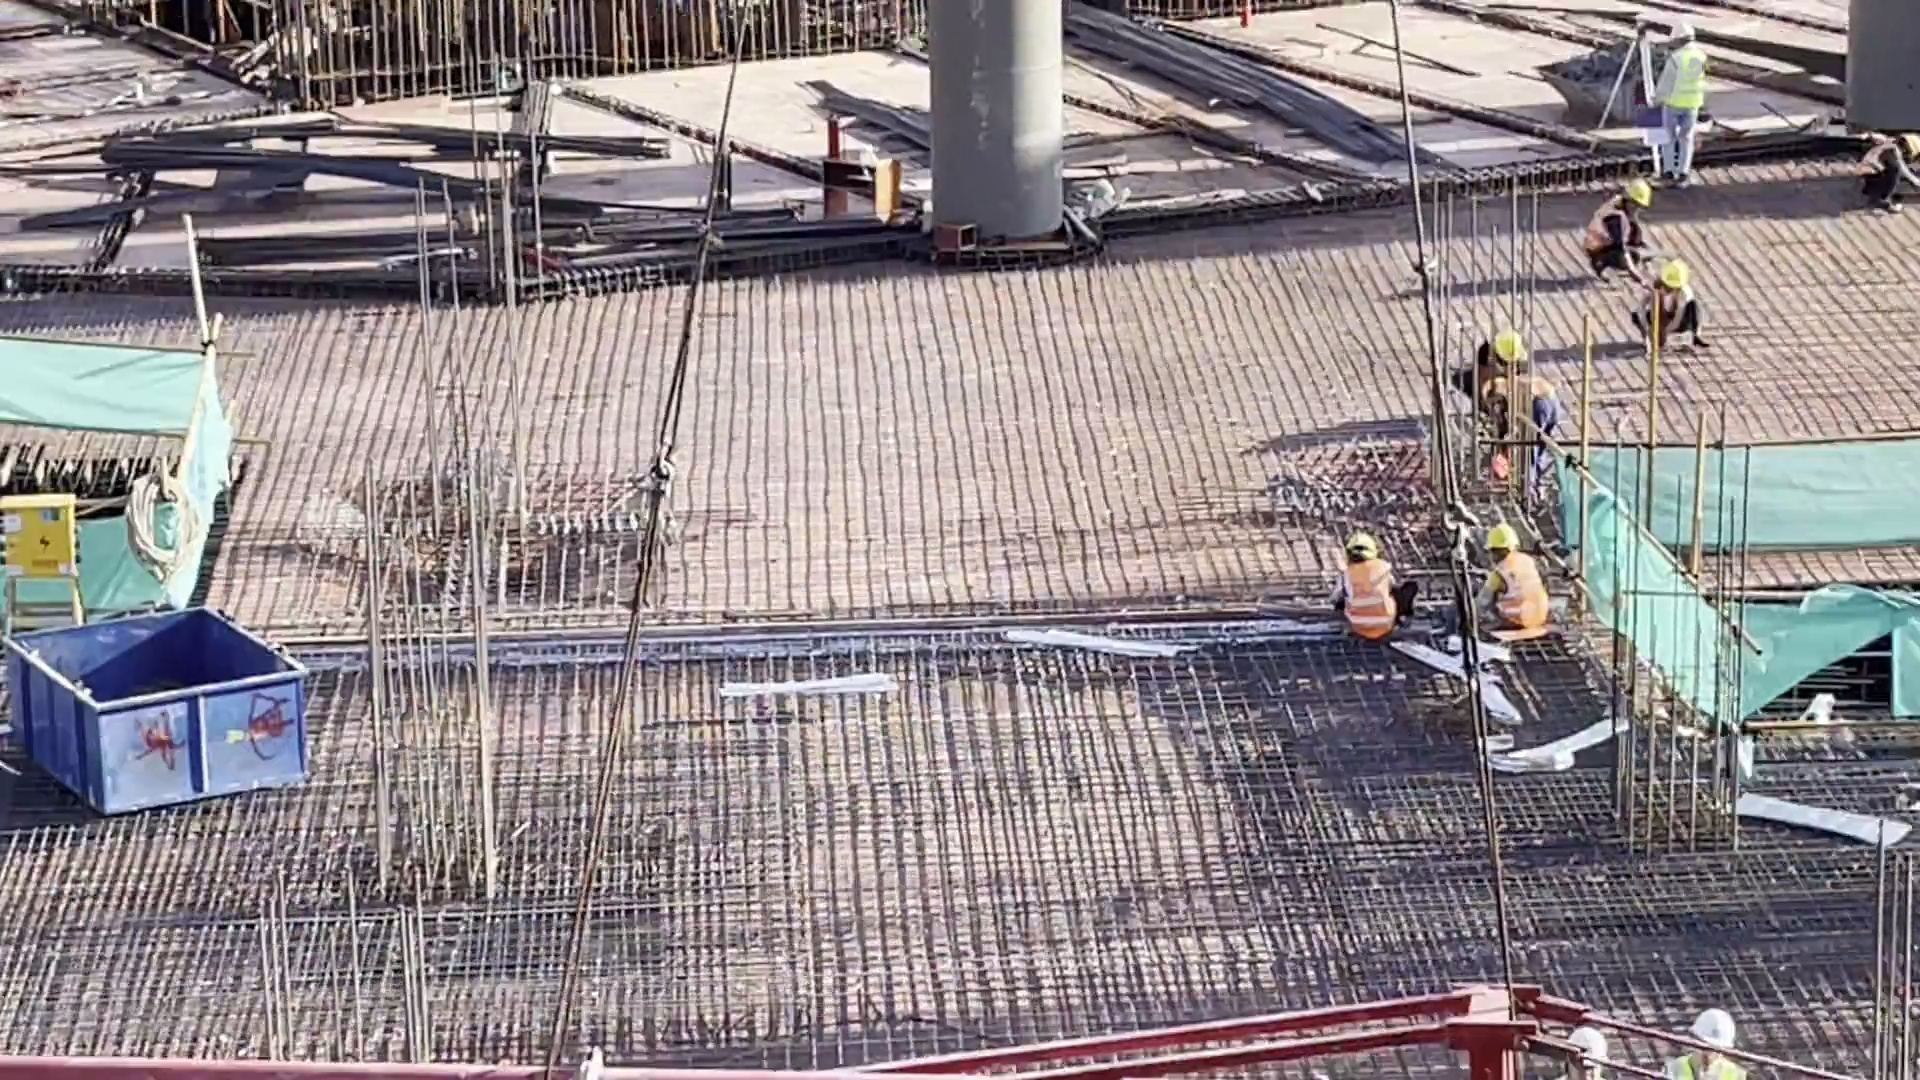helmet: (1694, 1011, 1738, 1054), (1567, 1029, 1603, 1064), (1667, 22, 1708, 51), (1484, 526, 1520, 551), (1340, 531, 1375, 551), (1496, 330, 1519, 357), (1659, 267, 1685, 290), (1631, 178, 1652, 207), (1903, 126, 1920, 155)
person: (1318, 530, 1425, 656), (1463, 523, 1560, 645), (1644, 20, 1708, 195), (1480, 375, 1569, 480), (1627, 256, 1713, 363), (1570, 176, 1654, 282), (1449, 328, 1535, 413), (1858, 126, 1919, 234), (1654, 1011, 1744, 1080)
vest: (1655, 56, 1708, 121), (1499, 555, 1549, 623), (1340, 565, 1390, 629), (1581, 197, 1621, 257), (1642, 292, 1688, 340), (1661, 1057, 1745, 1080), (1506, 378, 1551, 412), (1860, 144, 1900, 169)
